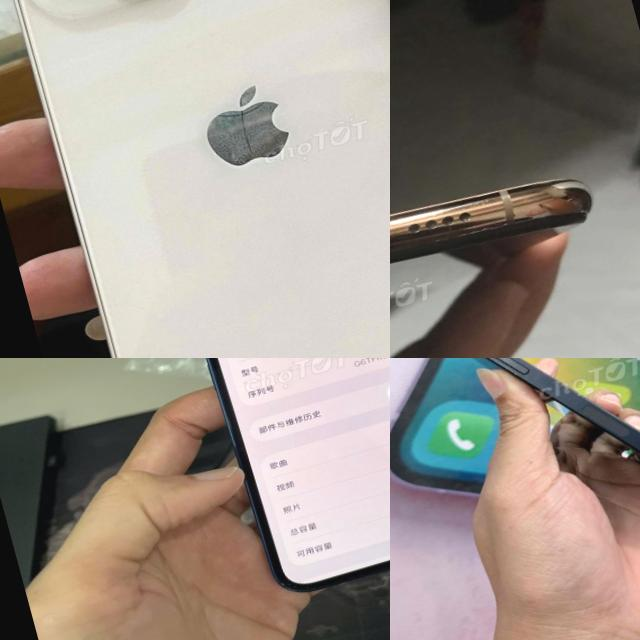gen_11: (390, 142, 606, 358)
gen_12_13: (0, 0, 390, 358), (170, 358, 390, 603), (408, 358, 640, 561)
